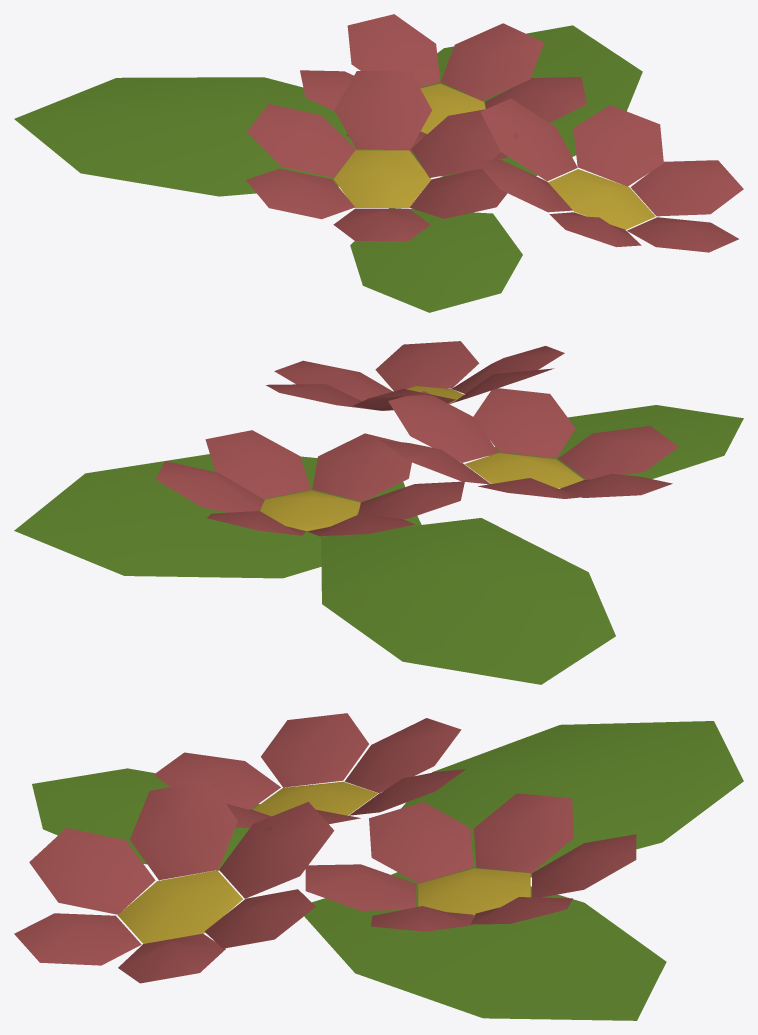
Rendered from FlowerPatch.fbx.
3 views of the same model, one above another, from view 1: azimuth 30°, elevation 25°; view 2: azimuth 150°, elevation 25°; view 3: azimuth 270°, elevation 25° (orthographic). The views are drawn at different scales.
Parts seen in each view (by area): view 1: FlowerPatch; view 2: FlowerPatch; view 3: FlowerPatch.
Boxes of the visible parts, x1,y1,x2,y2 form: FlowerPatch: (14, 14, 743, 312); FlowerPatch: (14, 341, 743, 684); FlowerPatch: (14, 713, 743, 1020).
Bounding box in the file's own units: 1.27 × 0.1997 × 1.35.
